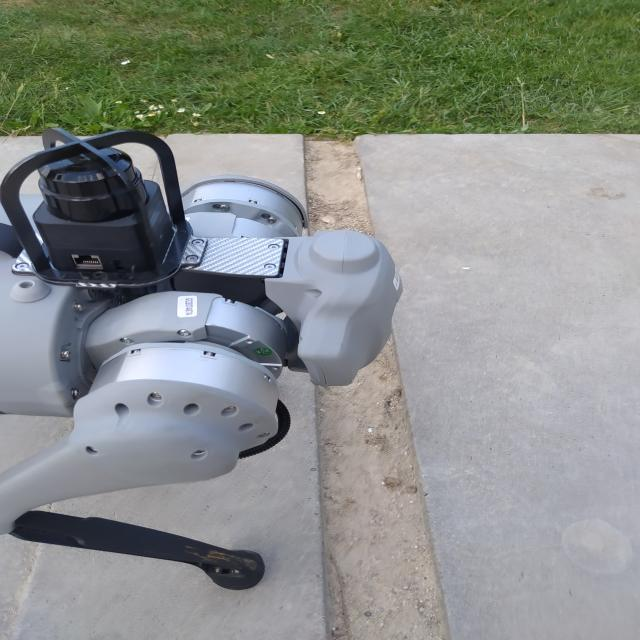unitree-go1-robot: (5, 91, 410, 604)
